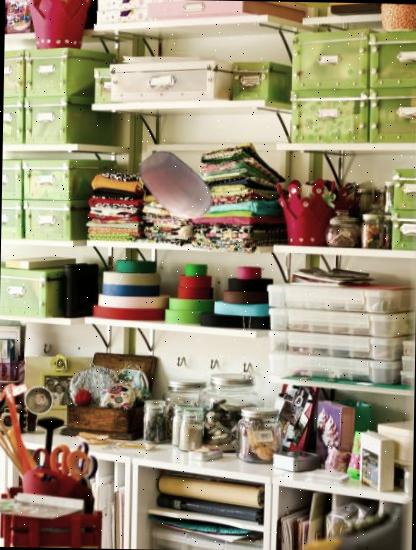Hazelnut: (136, 144, 220, 228)
